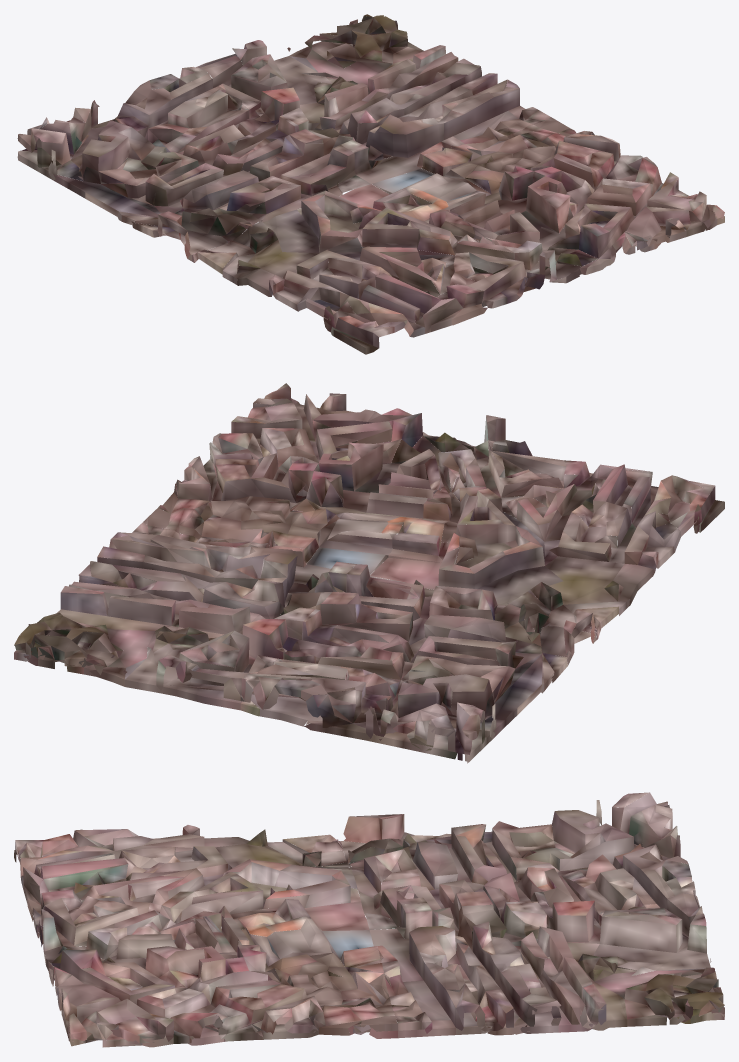
The picture shows the model from 3 angles, top to bottom: view 1: azimuth 30°, elevation 25°; view 2: azimuth 150°, elevation 25°; view 3: azimuth 270°, elevation 25°; orthographic projection. The views are drawn at different scales.
Visible parts, largest first — view 1: Mesh_0; view 2: Mesh_0; view 3: Mesh_0.
Part boxes in pixels (<box>): Mesh_0: <box>17,14,724,354</box>; Mesh_0: <box>14,383,724,763</box>; Mesh_0: <box>14,792,724,1047</box>.
Size of the model in its own units: 537 by 59.63 by 659.
2 materials, 2 textured.
